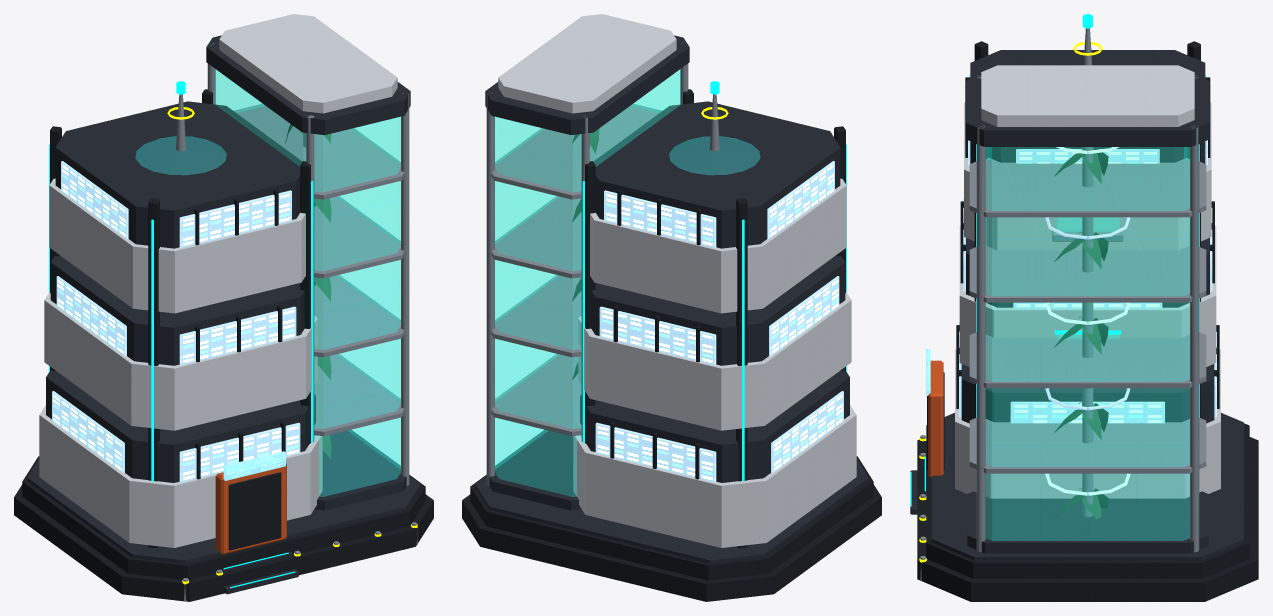
File: bldg_06_winner_01_hydroponic_biodome.glb
3 views of the same model, side by side, from view 1: azimuth 30°, elevation 25°; view 2: azimuth 150°, elevation 25°; view 3: azimuth 270°, elevation 25° (orthographic). The views are drawn at different scales.
Visible parts, largest first — view 1: Bldg06_C02_aero_white, Bldg06_C02_carbon_slate, Bldg06_C02_glass_emerald, Bldg06_C02_gunmetal, Bldg06_C02_steel_machined, Bldg06_C02_window_lit, Bldg06_C02_led_cyan, Bldg06_C02_accent_orange, Bldg06_C02_marquee, Bldg06_C02_foliage; view 2: Bldg06_C02_aero_white, Bldg06_C02_carbon_slate, Bldg06_C02_glass_emerald, Bldg06_C02_steel_machined, Bldg06_C02_gunmetal, Bldg06_C02_window_lit, Bldg06_C02_led_cyan; view 3: Bldg06_C02_glass_emerald, Bldg06_C02_steel_machined, Bldg06_C02_carbon_slate, Bldg06_C02_aero_white, Bldg06_C02_gunmetal, Bldg06_C02_window_lit, Bldg06_C02_foliage, Bldg06_C02_accent_orange, Bldg06_C02_led_ice, Bldg06_C02_led_uv, Bldg06_C02_led_cyan.
Boxes of the visible parts, <box> form: Bldg06_C02_aero_white: <box>39,14,397,547</box>; Bldg06_C02_carbon_slate: <box>27,35,420,594</box>; Bldg06_C02_glass_emerald: <box>135,69,400,496</box>; Bldg06_C02_gunmetal: <box>14,89,433,601</box>; Bldg06_C02_steel_machined: <box>176,43,417,601</box>; Bldg06_C02_window_lit: <box>52,161,300,482</box>; Bldg06_C02_led_cyan: <box>49,81,313,588</box>; Bldg06_C02_accent_orange: <box>215,463,286,554</box>; Bldg06_C02_marquee: <box>223,451,285,480</box>; Bldg06_C02_foliage: <box>285,124,331,459</box>; Bldg06_C02_aero_white: <box>498,14,856,547</box>; Bldg06_C02_carbon_slate: <box>475,35,868,563</box>; Bldg06_C02_glass_emerald: <box>495,69,760,496</box>; Bldg06_C02_steel_machined: <box>486,43,864,485</box>; Bldg06_C02_gunmetal: <box>462,89,881,601</box>; Bldg06_C02_window_lit: <box>595,161,843,482</box>; Bldg06_C02_led_cyan: <box>582,81,846,481</box>; Bldg06_C02_glass_emerald: <box>985,147,1189,540</box>; Bldg06_C02_steel_machined: <box>920,28,1206,581</box>; Bldg06_C02_carbon_slate: <box>910,50,1243,560</box>; Bldg06_C02_aero_white: <box>955,65,1220,498</box>; Bldg06_C02_gunmetal: <box>917,41,1258,601</box>; Bldg06_C02_window_lit: <box>959,74,1216,423</box>; Bldg06_C02_foliage: <box>1054,147,1108,519</box>; Bldg06_C02_accent_orange: <box>928,360,943,477</box>; Bldg06_C02_led_ice: <box>1045,147,1130,495</box>; Bldg06_C02_led_uv: <box>1045,217,1130,410</box>; Bldg06_C02_led_cyan: <box>910,14,1199,506</box>.
Size of the model in its own units: 12 by 16.32 by 10.71.
14 materials, 14 textured.
